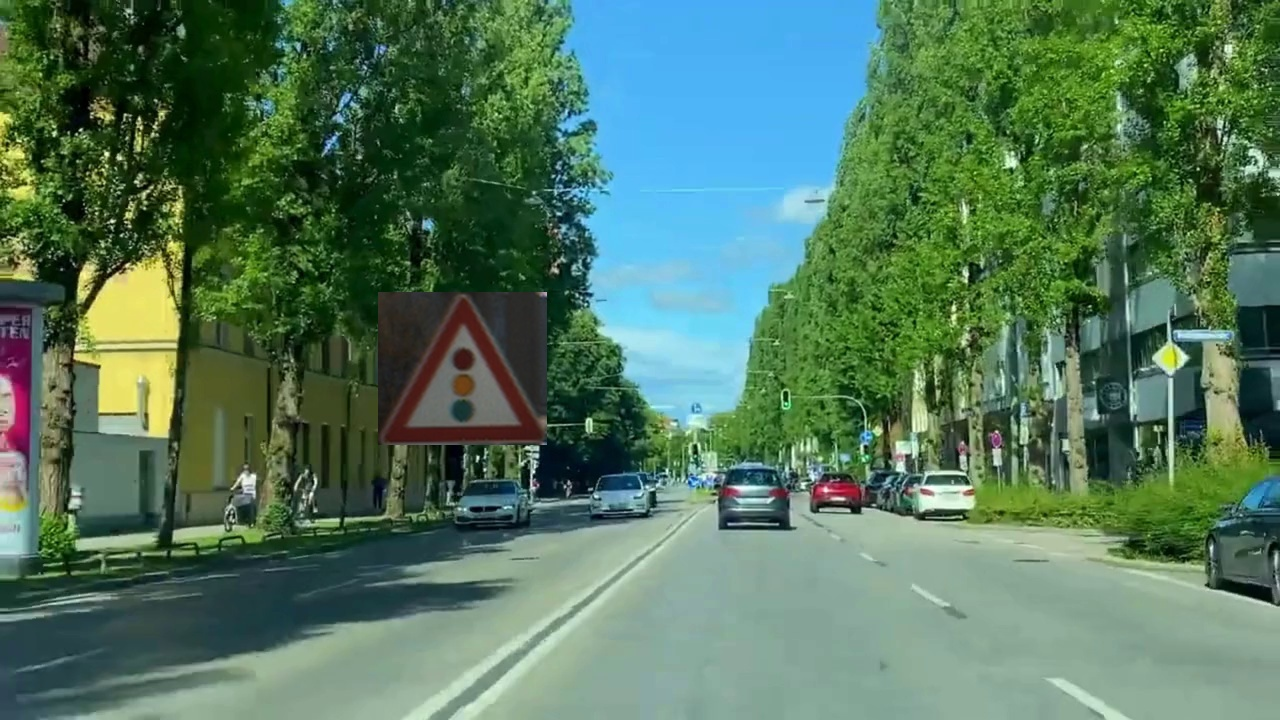Signals: (378, 292, 547, 445)
